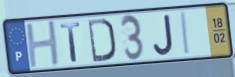3: (120, 12, 145, 63)
D: (86, 17, 117, 64)
H: (24, 19, 62, 71)
I: (180, 10, 192, 57)
J: (151, 13, 175, 57)
T: (58, 20, 83, 64)
